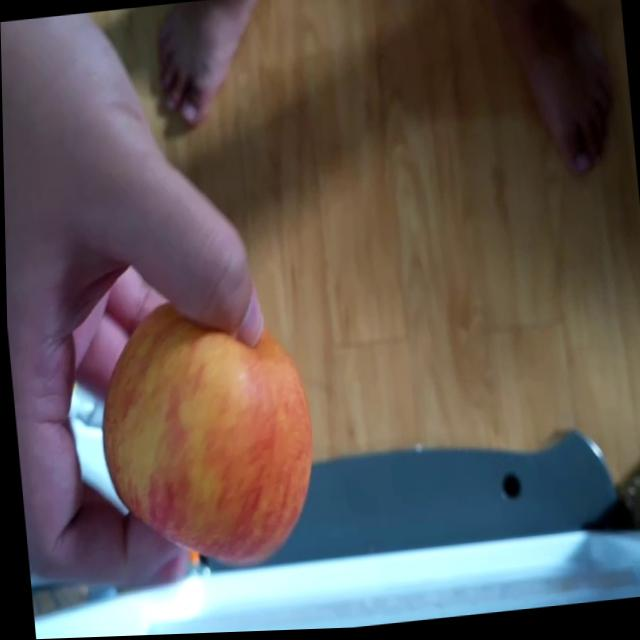apple: (81, 291, 320, 576)
